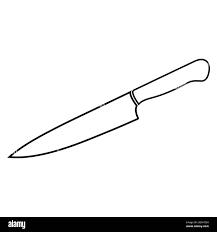Knife: (7, 57, 210, 158)
